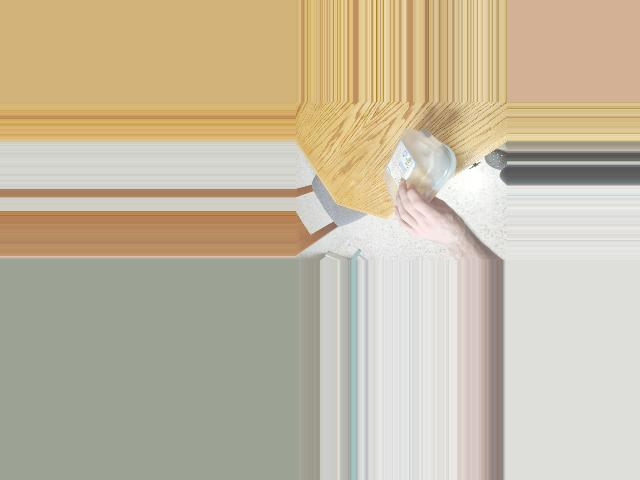cheese: (379, 126, 454, 220)
